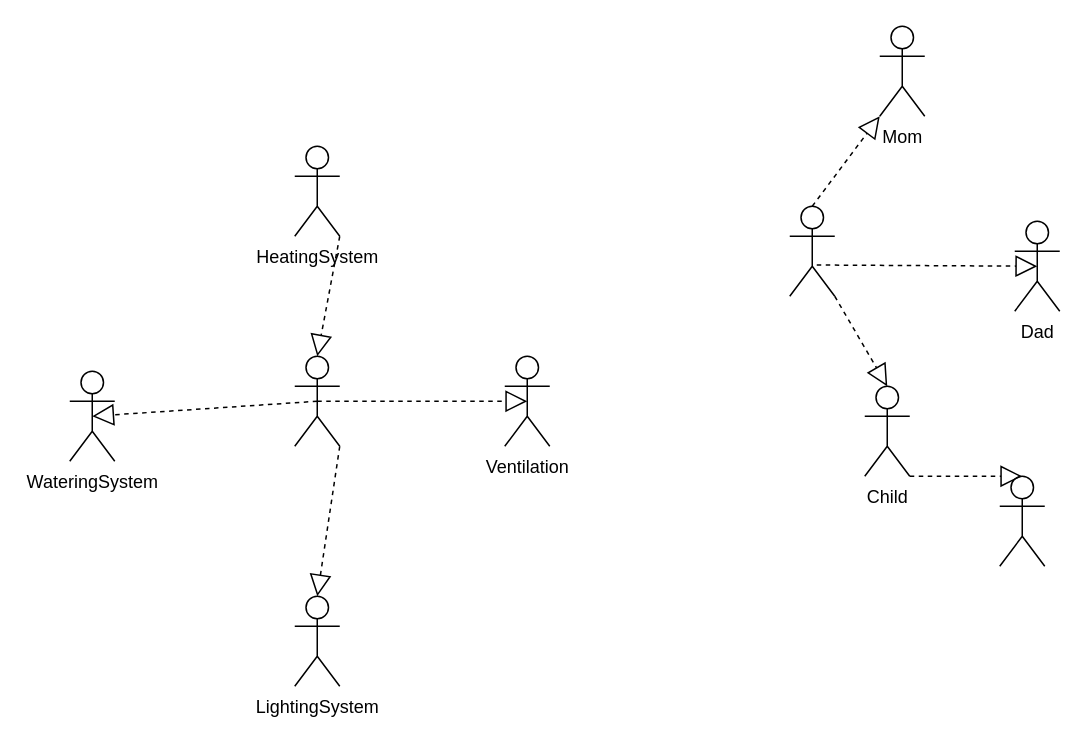
The diagram is 1086 pixels wide and 744 high, and some of its shapes have lost their labels. The centre of each missing label's shape, as x and y in pixels:
Appliance: pixel 316 400
Child1: pixel 1021 520
Person: pixel 811 250
